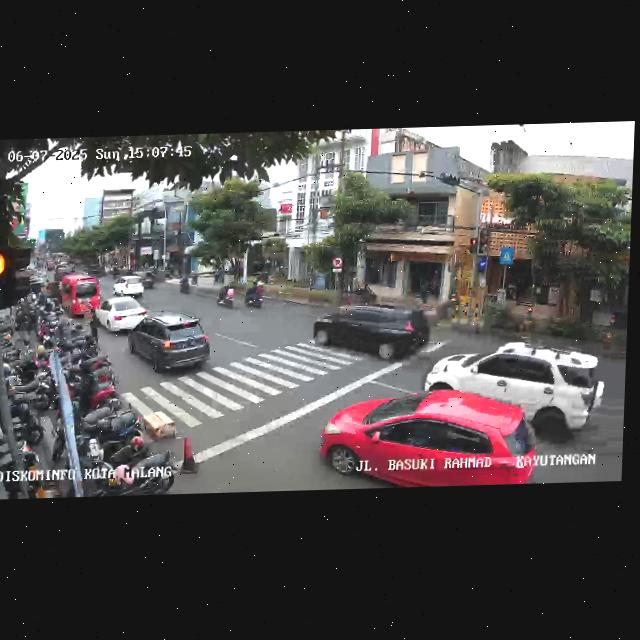car: (319, 390, 539, 490), (420, 339, 608, 440), (314, 301, 434, 366), (128, 314, 214, 377), (93, 295, 149, 337), (60, 273, 100, 318), (113, 272, 152, 297)
motorcycle: (244, 279, 267, 309), (216, 285, 236, 309)
